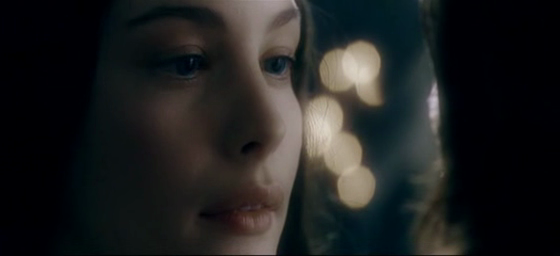ecu: (1, 1, 560, 256)
face: (1, 1, 303, 256)
person: (94, 1, 305, 256)
